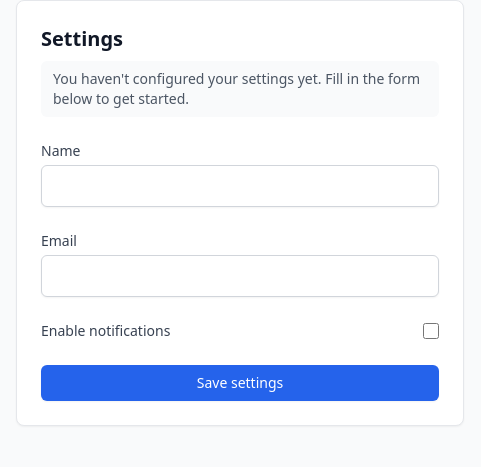
Scenario: SettingsForm › validates name minimum length on blur
This screenshot has width=481, height=467.
Step 1. Type "A" into the field labelled "Name" → (240, 186), box [41,165,439,207]
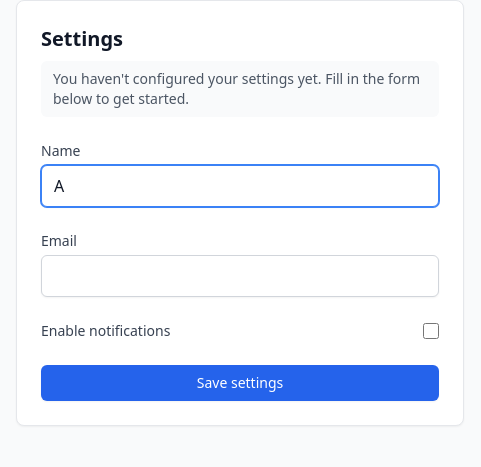
Step 2. Press Tab
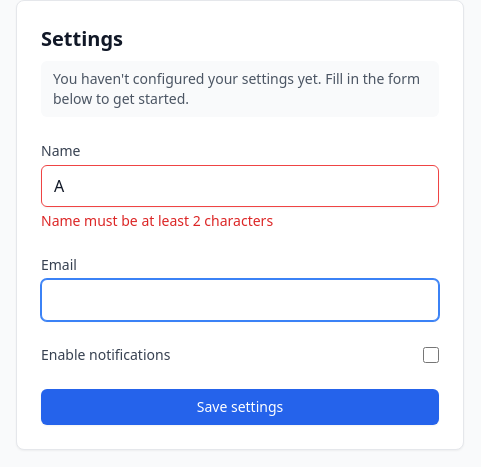
Check: the message reads "Name must be at least 2 characters", box [41,211,273,230]
